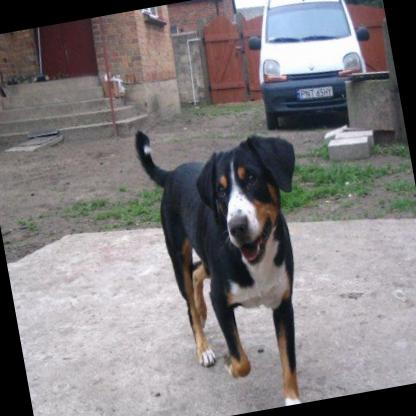EntleBucher: (129, 104, 336, 416)
